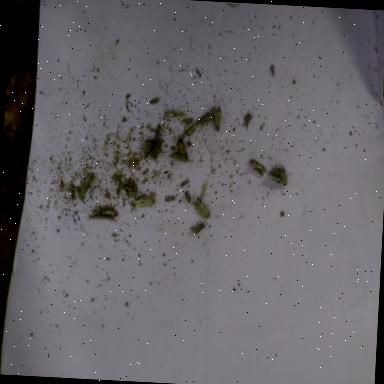pbw: (76, 170, 94, 202), (88, 204, 118, 222), (192, 199, 210, 220), (248, 158, 267, 177), (174, 136, 189, 160), (132, 196, 156, 210), (210, 104, 222, 132), (196, 110, 214, 127), (168, 151, 190, 164), (183, 120, 200, 136), (163, 110, 186, 119), (180, 116, 194, 128), (244, 112, 252, 128), (164, 195, 176, 203)
